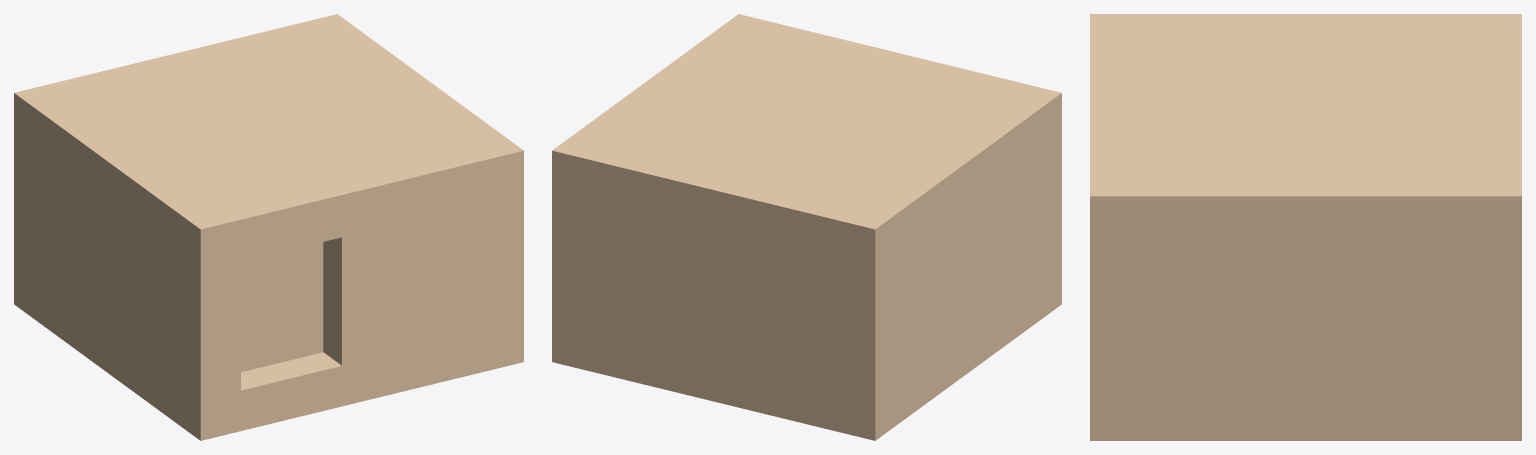
File: building-window-left.obj
3 renders of one model, left to right at view 1: azimuth 30°, elevation 25°; view 2: azimuth 150°, elevation 25°; view 3: azimuth 270°, elevation 25°, orthographic. The views are drawn at different scales.
Size of the model in its own units: 1 by 0.625 by 1.
